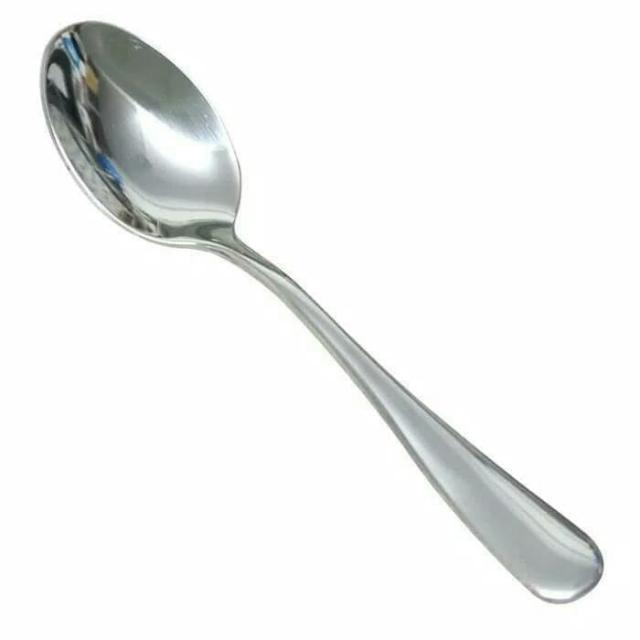spoon: (20, 15, 619, 628)
